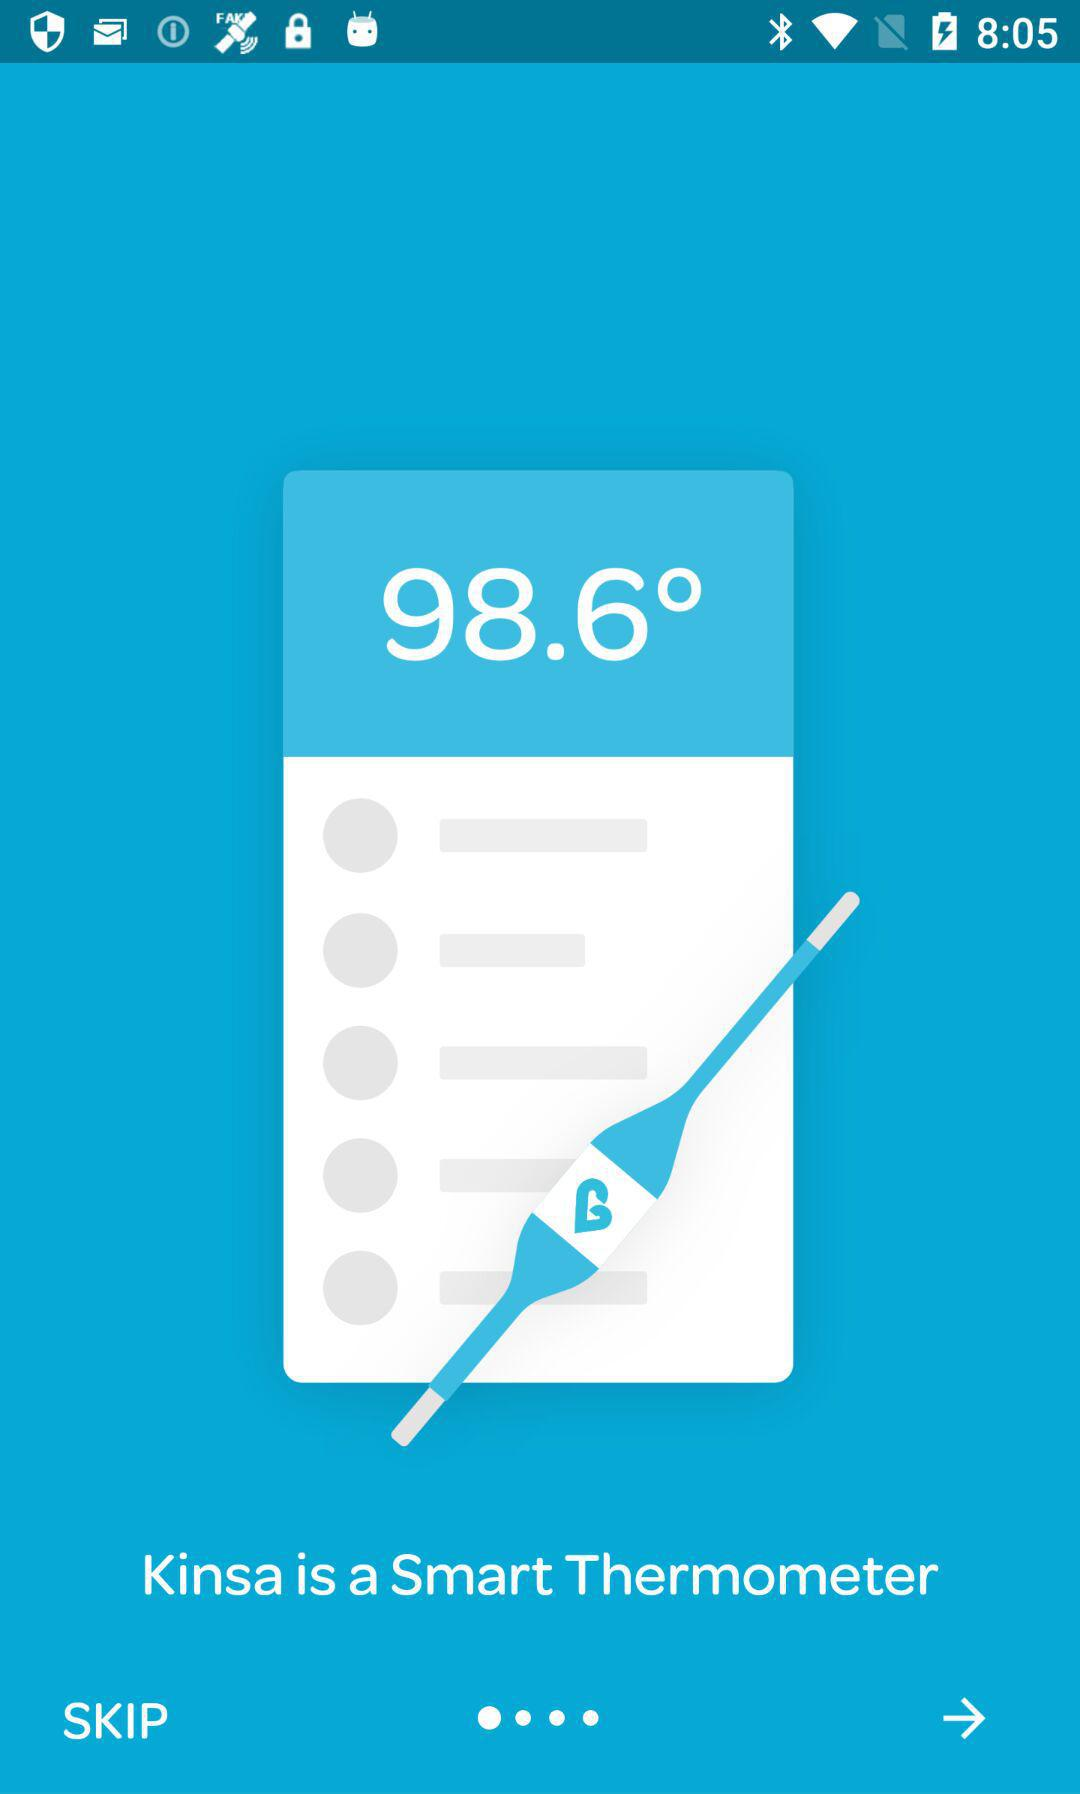Icon: (942, 1697, 986, 1741)
Image: (282, 469, 860, 1447)
PageIndicator: (477, 1704, 601, 1732)
Text: (145, 1551, 940, 1601), (64, 1700, 170, 1741)
UpperTaskBar: (1, 1, 1080, 64)
